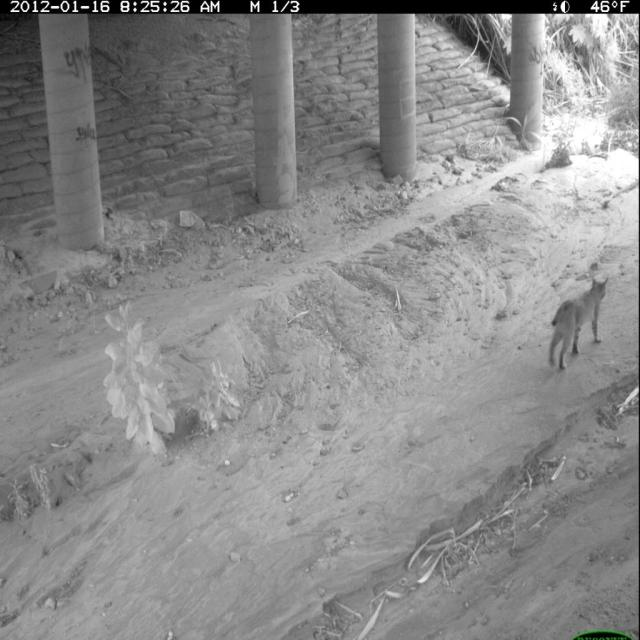bobcat: (543, 269, 617, 377)
